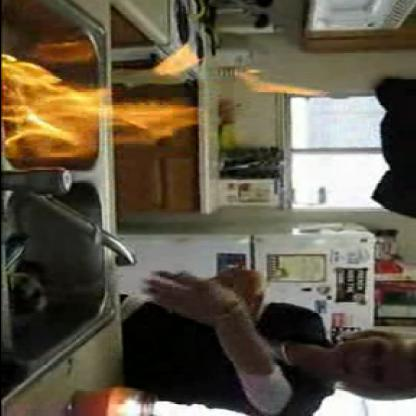Fire: (8, 70, 196, 158)
